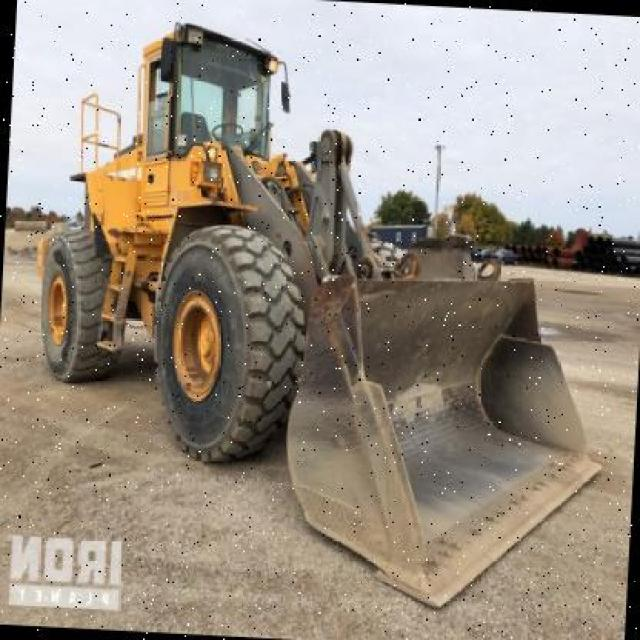buldozerpayloadergrader: (16, 11, 629, 624)
